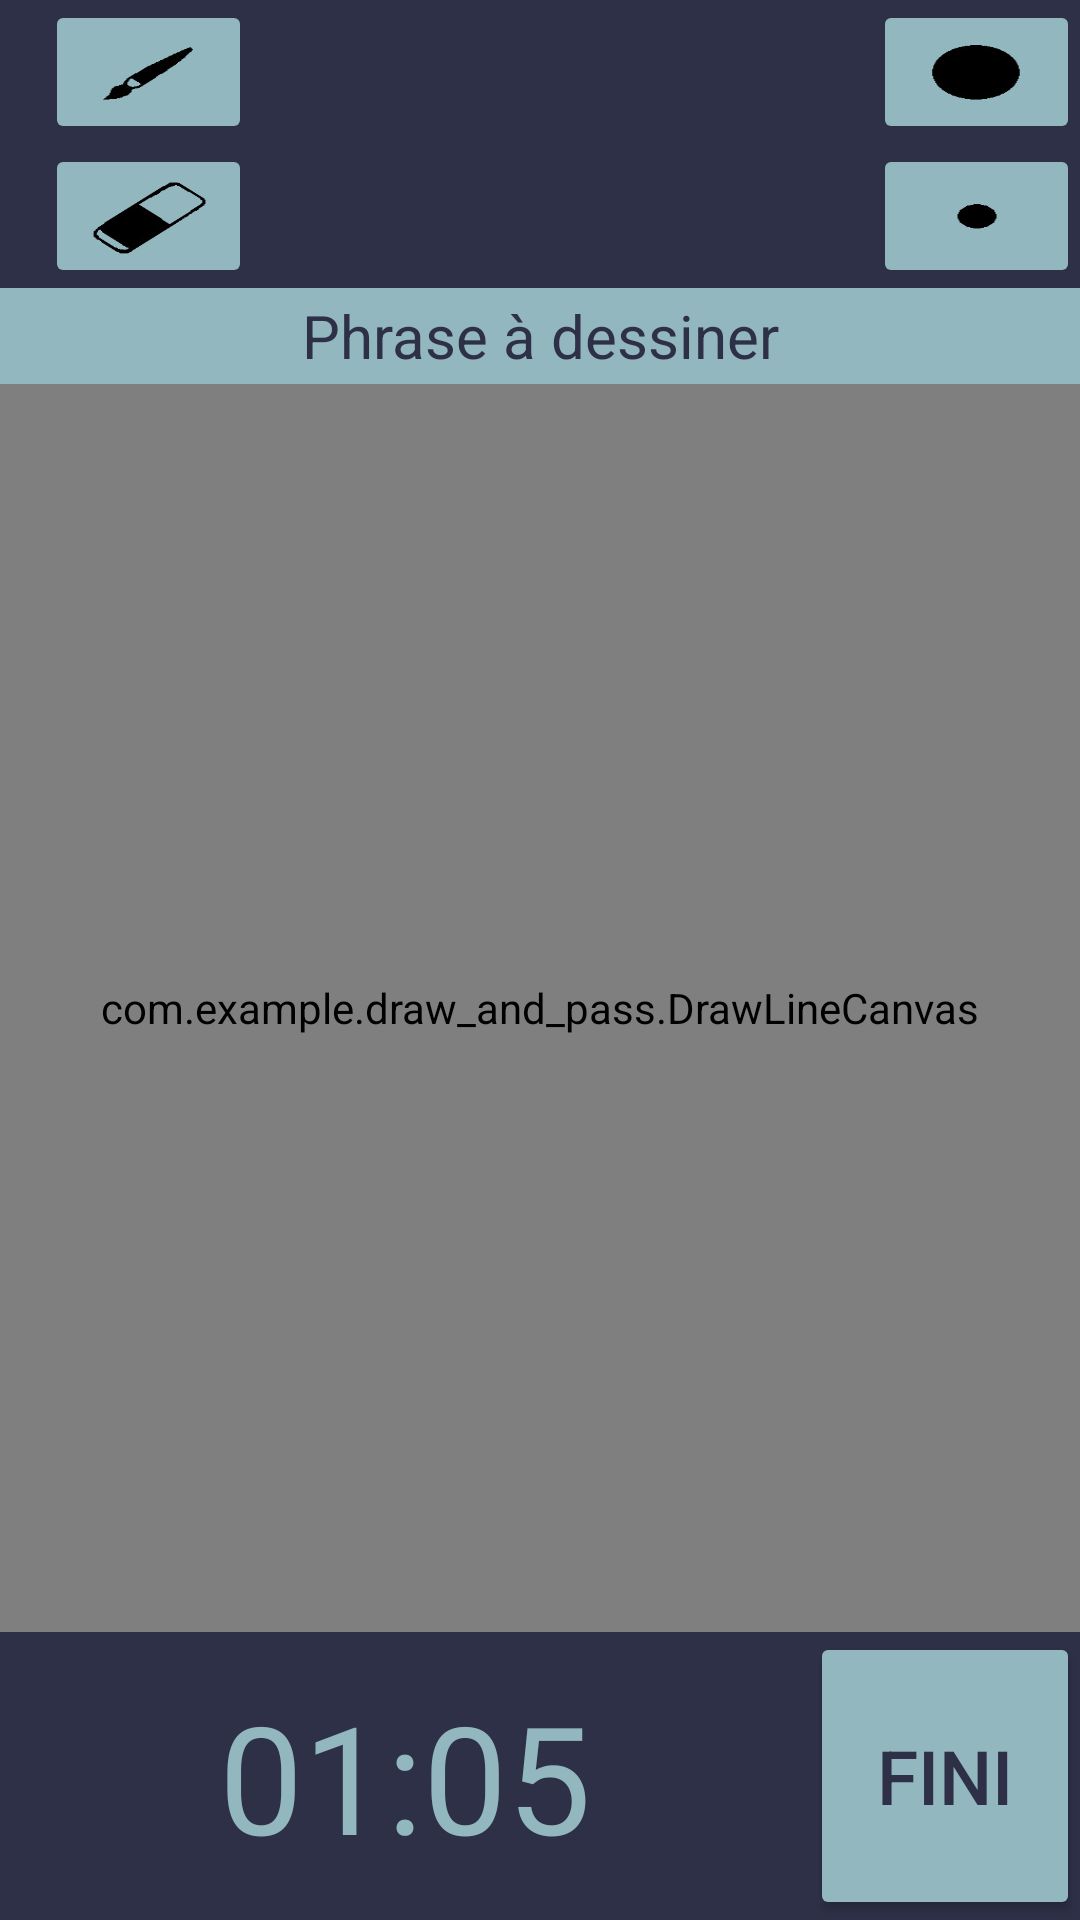

Screen size 1080×1920. Icon name, then its box in pixels as [x1=x1, y1=y1, x2=x2, y2=y2]:
gomme: [x1=57, y1=162, x2=240, y2=270]
gros: [x1=885, y1=18, x2=1068, y2=126]
petit: [x1=885, y1=162, x2=1068, y2=270]
pinceau: [x1=57, y1=18, x2=240, y2=126]
